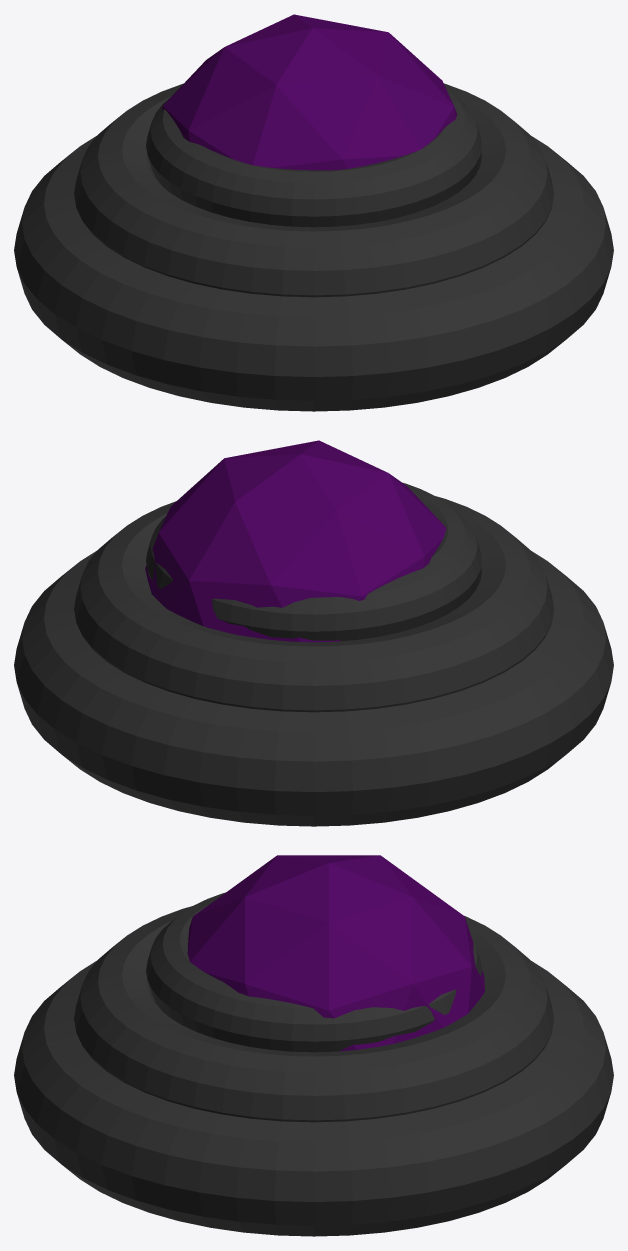
The model's file is fancyRetailerSingle.glb.
The picture shows the model from 3 angles, top to bottom: view 1: azimuth 30°, elevation 25°; view 2: azimuth 150°, elevation 25°; view 3: azimuth 270°, elevation 25°; orthographic projection.
Parts seen in each view (by area): view 1: Torus.008, Torus.007, Icosphere.012, Torus.006; view 2: Torus.008, Torus.007, Icosphere.012, Torus.006; view 3: Torus.008, Torus.007, Icosphere.012, Torus.006.
Boxes of the visible parts, left/top/right/bottom form: Torus.008: left=14, top=136, right=613, bottom=411; Torus.007: left=74, top=83, right=553, bottom=297; Icosphere.012: left=162, top=14, right=457, bottom=170; Torus.006: left=146, top=88, right=481, bottom=227; Torus.008: left=14, top=551, right=613, bottom=826; Torus.007: left=74, top=496, right=553, bottom=712; Icosphere.012: left=145, top=440, right=446, bottom=642; Torus.006: left=146, top=482, right=481, bottom=640; Torus.008: left=14, top=961, right=613, bottom=1236; Torus.007: left=74, top=906, right=553, bottom=1122; Icosphere.012: left=187, top=855, right=484, bottom=1051; Torus.006: left=146, top=892, right=481, bottom=1052.
Size of the model in its own units: 5 by 2.8 by 5.
